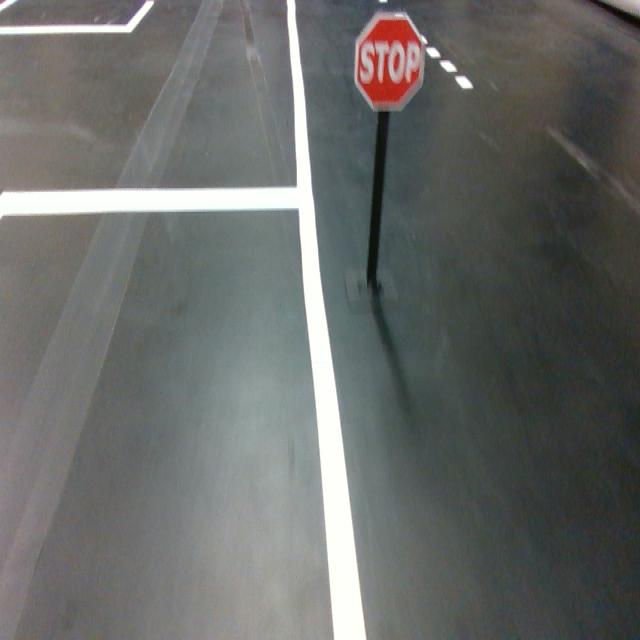stop-sign: (353, 8, 426, 113)
